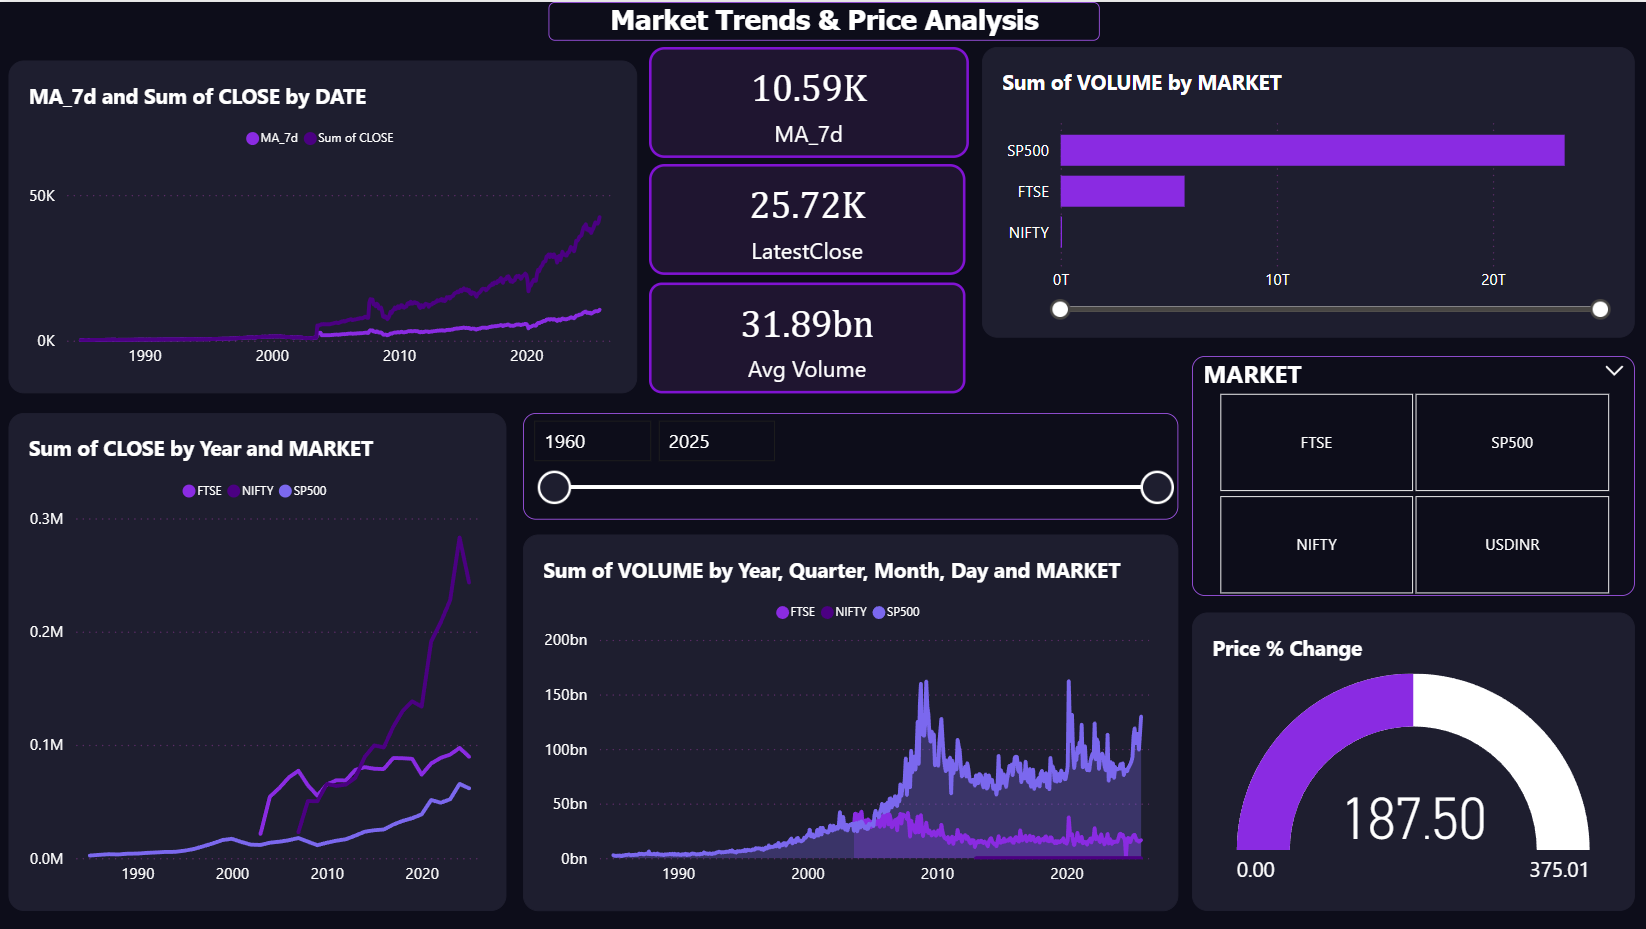

Layout of this report page (visuals, bound fields, positions):
{"tool":"powerbi","page":{"name":"Page 2","canvas":[1280,720],"ordinal":1},"visuals":[{"type":"textbox","box":[426.4,0,427.5,29.7],"z":0},{"type":"slicer","fields":{"Values":["DIM_DATE.DATE.Variation.Date Hierarchy.Year"]},"box":[407,318.6,508.1,82.6],"z":1000},{"type":"slicer","fields":{"Values":["MARKET_FINAL.MARKET"]},"box":[925.6,274.4,343,186],"z":2000},{"type":"card","fields":{"Values":["CORRELATION_MARKET_ECON.LatestClose"]},"box":[504.7,125.6,245.3,86],"z":3000},{"type":"card","fields":{"Values":["CORRELATION_MARKET_ECON.MA_7d"]},"box":[504.7,34.9,247.7,86],"z":4000},{"type":"card","fields":{"Values":["CORRELATION_MARKET_ECON.Avg Volume"]},"box":[504.7,217.4,245.3,86],"z":5000},{"type":"lineChart","fields":{"Category":["DIM_DATE.DATE.Variation.Date Hierarchy.Year","DIM_DATE.DATE.Variation.Date Hierarchy.Quarter","DIM_DATE.DATE.Variation.Date Hierarchy.Month","DIM_DATE.DATE.Variation.Date Hierarchy.Day"],"Y":["Sum(MARKET_FINAL.CLOSE)"],"Series":["MARKET_FINAL.MARKET"]},"box":[8.1,318.6,386,386],"z":6000},{"type":"lineChart","fields":{"Y":["CORRELATION_MARKET_ECON.MA_7d","Sum(MARKET_FINAL.CLOSE)"],"Category":["MARKET_FINAL.DATE"]},"box":[8.1,45.3,487.2,258.1],"z":7000},{"type":"barChart","fields":{"Category":["MARKET_FINAL.MARKET"],"Y":["Sum(MARKET_FINAL.VOLUME)"]},"box":[762.8,34.9,505.8,225.6],"z":8000},{"type":"gauge","fields":{"Y":["CORRELATION_MARKET_ECON.Price % Change"]},"box":[925.6,473.3,343,231.4],"z":9000},{"type":"areaChart","fields":{"Y":["Sum(MARKET_FINAL.VOLUME)"],"Category":["DIM_DATE.DATE.Variation.Date Hierarchy.Year","DIM_DATE.DATE.Variation.Date Hierarchy.Quarter","DIM_DATE.DATE.Variation.Date Hierarchy.Month","DIM_DATE.DATE.Variation.Date Hierarchy.Day"],"Series":["MARKET_FINAL.MARKET"]},"box":[407,412.8,508.1,291.9],"z":10000}]}

Visuals, with their boxes in screenshot pixels (x1, y1, x2, y2), scaled from the page's 1280x720 canvas onto the 1646x929 screenshot:
textbox: (left=548, top=0, right=1098, bottom=38)
slicer - DIM_DATE.DATE.Variation.Date Hierarchy.Year: (left=523, top=411, right=1177, bottom=518)
slicer - MARKET_FINAL.MARKET: (left=1190, top=354, right=1631, bottom=594)
card - CORRELATION_MARKET_ECON.LatestClose: (left=649, top=162, right=964, bottom=273)
card - CORRELATION_MARKET_ECON.MA_7d: (left=649, top=45, right=968, bottom=156)
card - CORRELATION_MARKET_ECON.Avg Volume: (left=649, top=281, right=964, bottom=391)
lineChart - DIM_DATE.DATE.Variation.Date Hierarchy.Year x DIM_DATE.DATE.Variation.Date Hierarchy.Quarter: (left=10, top=411, right=507, bottom=909)
lineChart - CORRELATION_MARKET_ECON.MA_7d x Sum(MARKET_FINAL.CLOSE): (left=10, top=58, right=637, bottom=391)
barChart - MARKET_FINAL.MARKET x Sum(MARKET_FINAL.VOLUME): (left=981, top=45, right=1631, bottom=336)
gauge - CORRELATION_MARKET_ECON.Price % Change: (left=1190, top=611, right=1631, bottom=909)
areaChart - Sum(MARKET_FINAL.VOLUME) x DIM_DATE.DATE.Variation.Date Hierarchy.Year: (left=523, top=533, right=1177, bottom=909)
